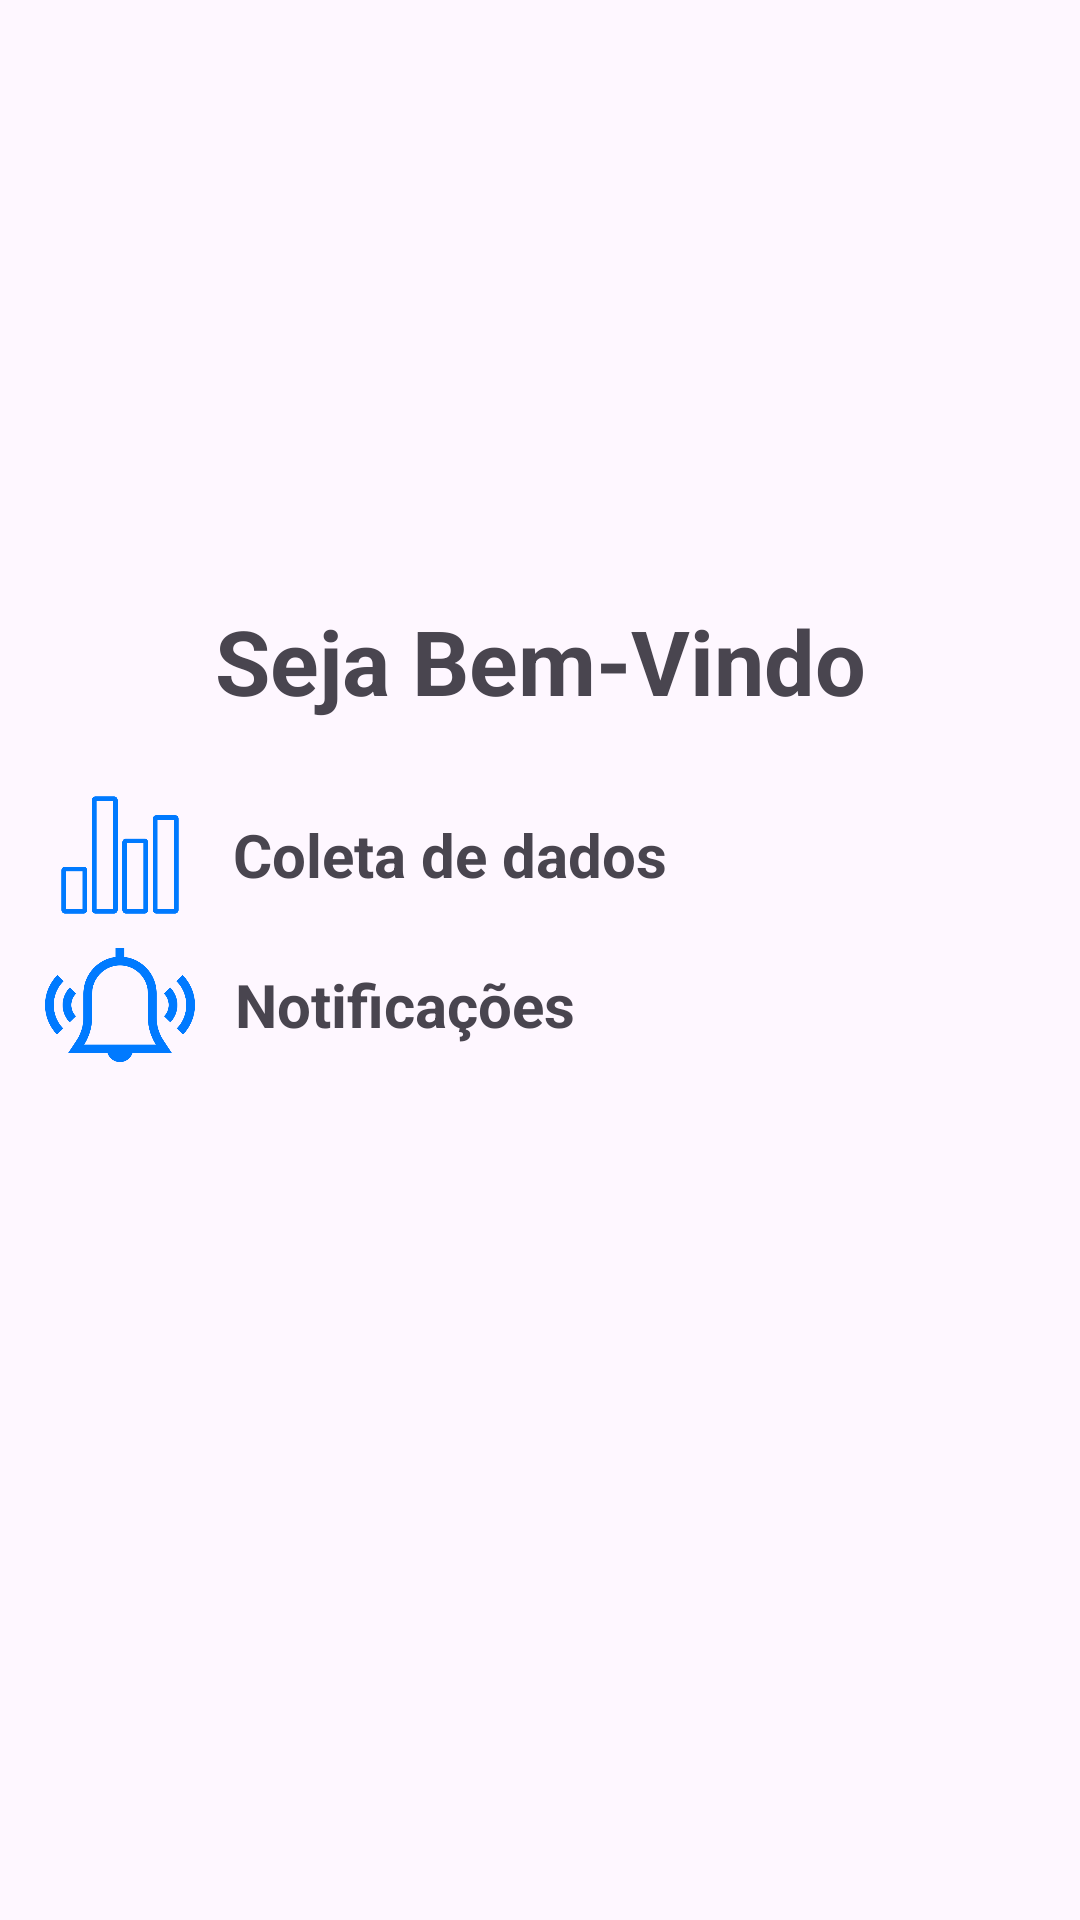

Locate icon controls on the screen. Image size 1080 x 1920, boxes as region(x1, y1, x2, y2).
notificacao: region(45, 948, 195, 1062)
